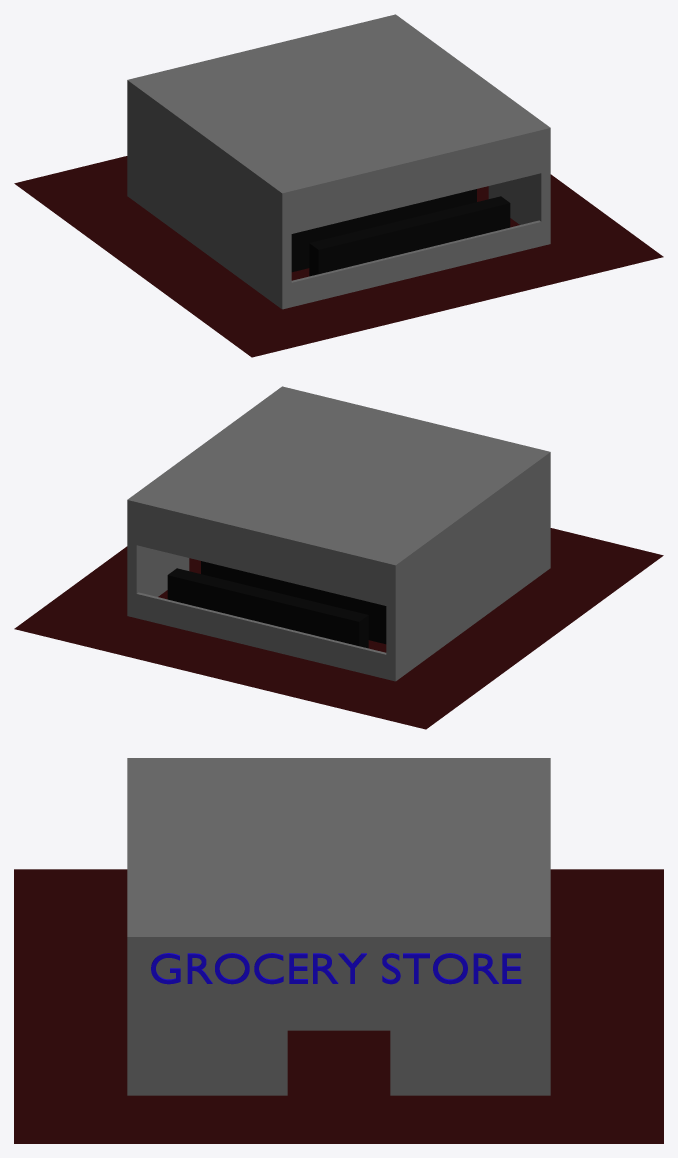
The model's file is store.fbx.
3 views of the same model, one above another, from view 1: azimuth 30°, elevation 25°; view 2: azimuth 150°, elevation 25°; view 3: azimuth 270°, elevation 25° (orthographic). The views are drawn at different scales.
Parts seen in each view (by area): view 1: Text; view 2: Text; view 3: Text.
Part boxes in pixels (<box>): Text: <box>14,14,663,357</box>; Text: <box>14,386,663,729</box>; Text: <box>14,758,663,1143</box>.
Bounding box in the file's own units: 1771 × 478 × 1771.
